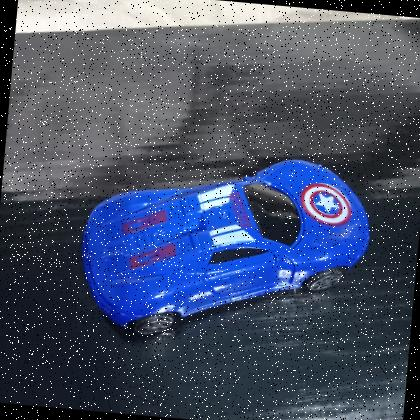Car: (81, 159, 370, 338)
